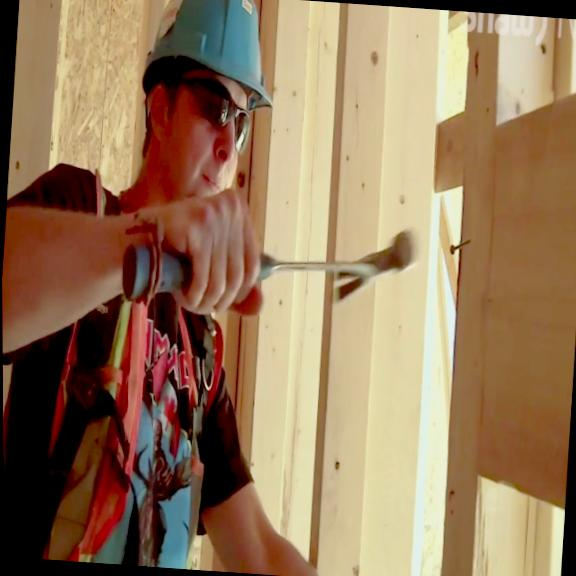safety_vest: (1, 162, 238, 571)
